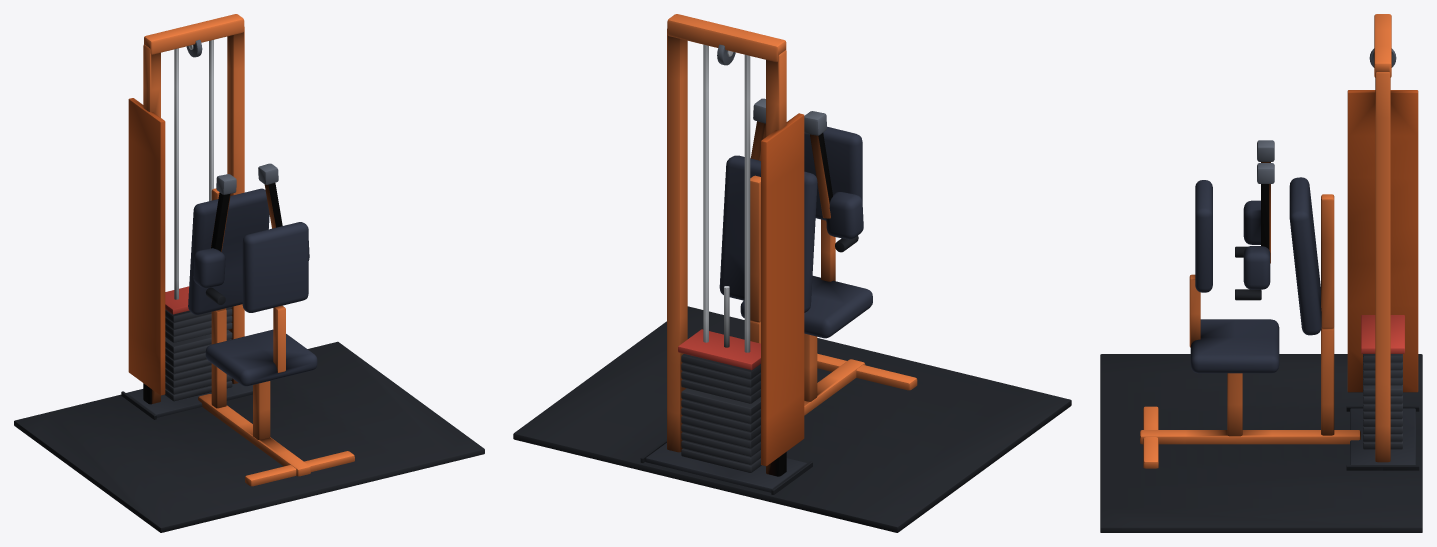
Rendered from m_latraise.glb.
3 renders of one model, left to right at view 1: azimuth 30°, elevation 25°; view 2: azimuth 150°, elevation 25°; view 3: azimuth 270°, elevation 25°, orthographic. The views are drawn at different scales.
Visible parts, largest first — view 1: static, o44, o17, o51; view 2: static, o17, o44, o51; view 3: static, o51, o17, o44.
Part boxes in pixels (x1,y1,x2,y2): static: [14, 14, 484, 532]; o44: [193, 174, 236, 304]; o17: [165, 286, 232, 342]; o51: [258, 163, 309, 260]; static: [513, 14, 1071, 532]; o17: [678, 286, 760, 403]; o44: [804, 111, 863, 252]; o51: [751, 98, 765, 160]; static: [1100, 14, 1422, 532]; o51: [1235, 163, 1274, 300]; o17: [1361, 315, 1404, 385]; o44: [1235, 140, 1274, 257].
Bounding box in the file's own units: 1.86 × 2.05 × 1.46.
